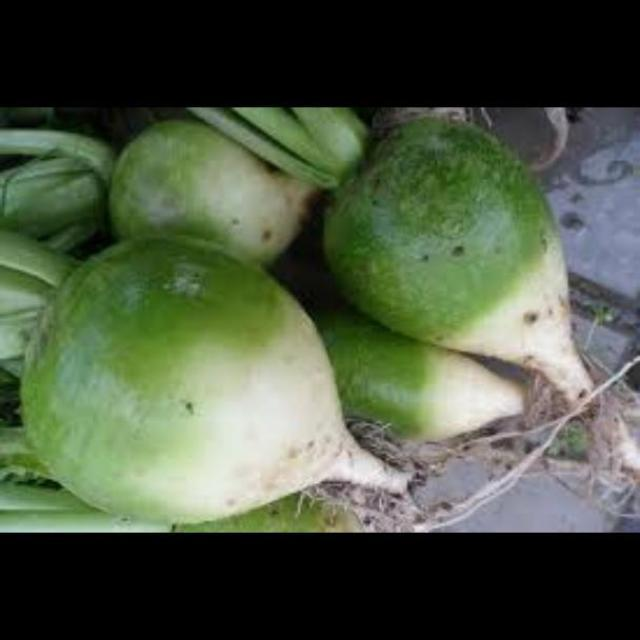redka: (17, 232, 398, 522), (313, 126, 596, 416), (103, 123, 334, 280), (316, 314, 538, 454), (161, 474, 384, 534)
